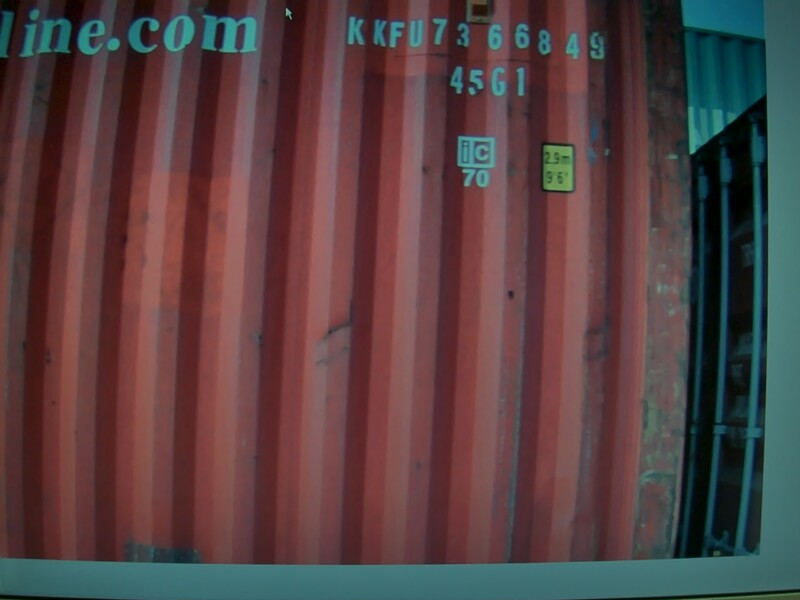container_no_door: (42, 1, 681, 546)
